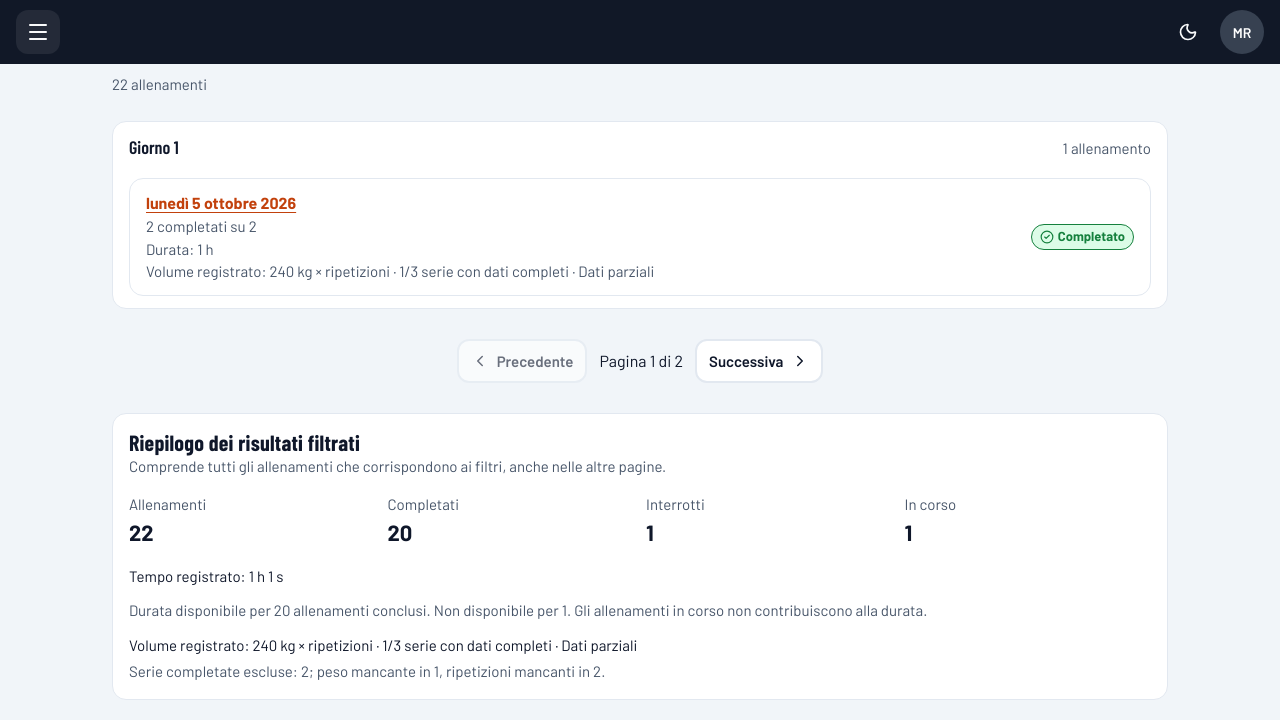
Scenario: filtered history summary › aggregates beyond the page and passes URL filters without pagination
The width and height of the screenshot is (1280, 720).
(page scrolled)
Expected: the text "22" is shown, [129, 519, 154, 545]
Expected: the text "Tempo registrato: 1 h 1 s" is shown, [129, 567, 284, 585]
Step 1. Click the button "Successiva" → (759, 361), box [695, 339, 823, 383]
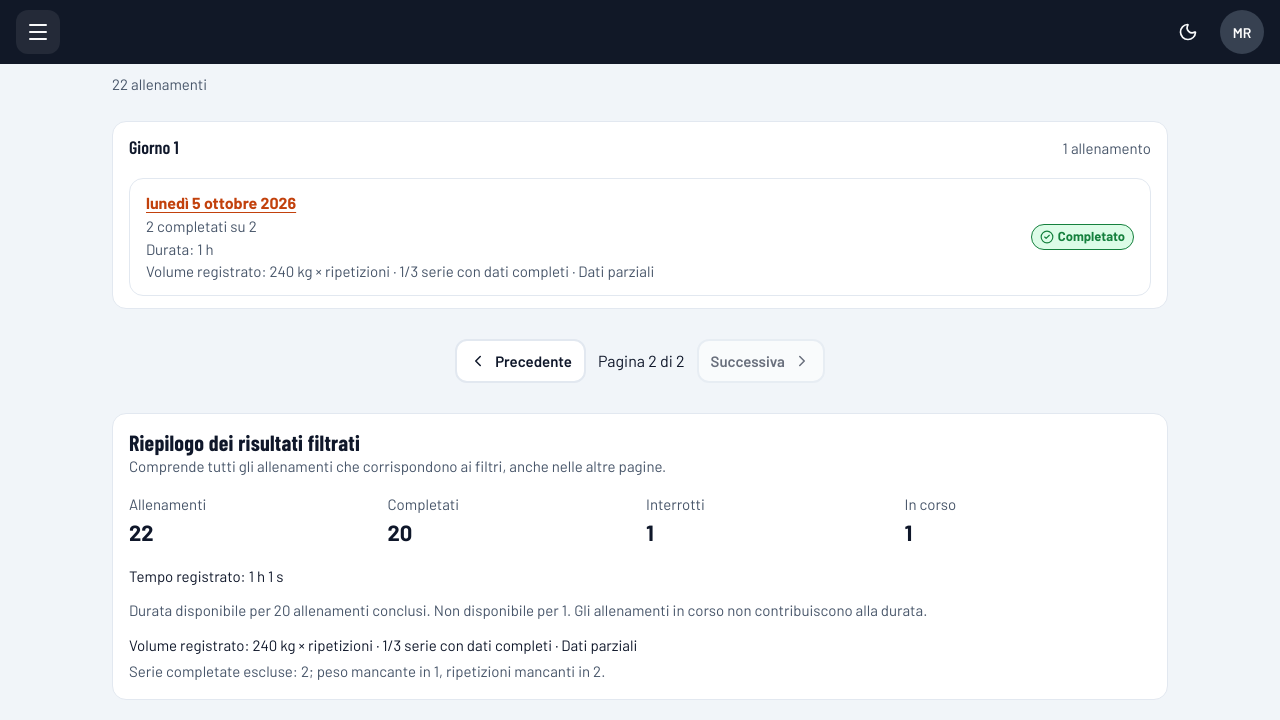
Expected: the text "22" is shown, [129, 519, 154, 545]
Result: the text "Pagina 2 di 2" is shown at [598, 349, 684, 373]
